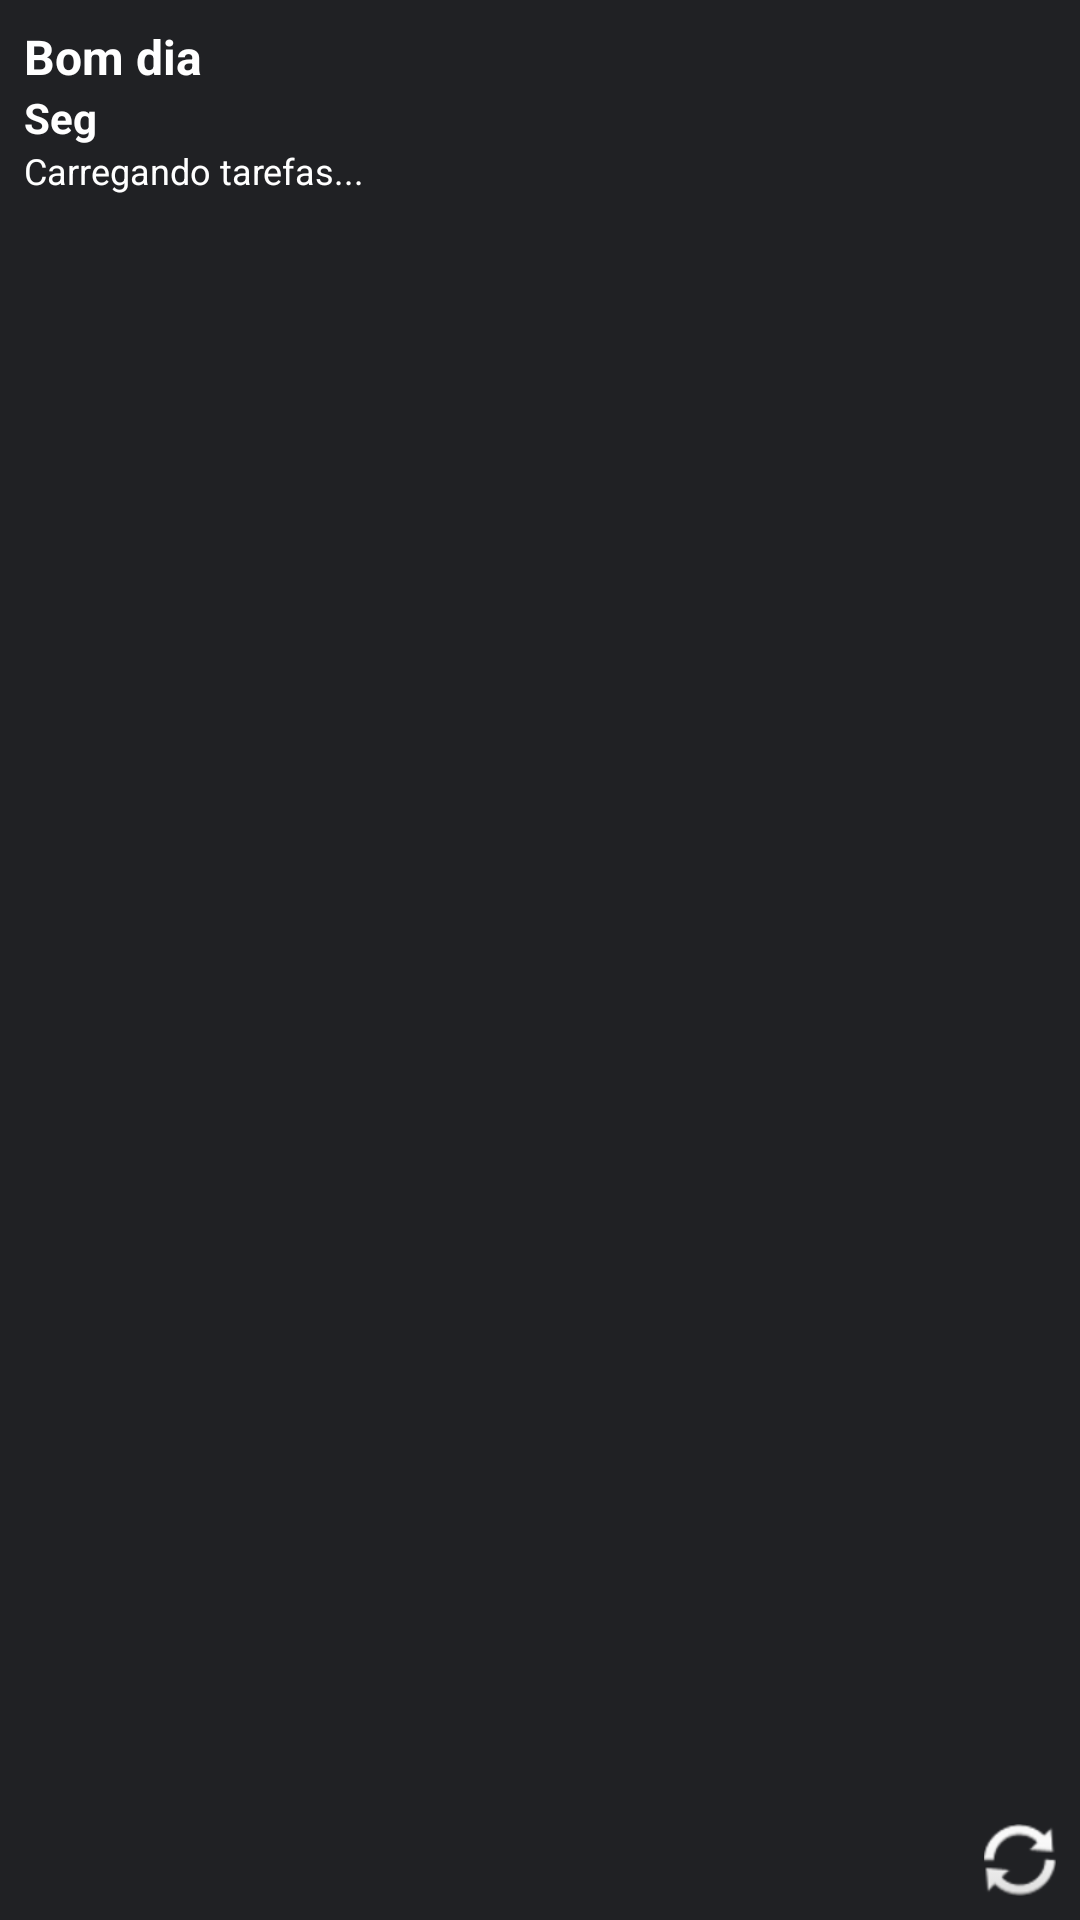

Icons on this 1080px x 1920px Android screen, each with its box as (x1, y1, x2, y2):
Refresh Widget: (984, 1824, 1056, 1896)
